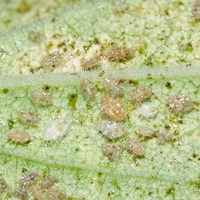insect: (101, 95, 126, 120)
